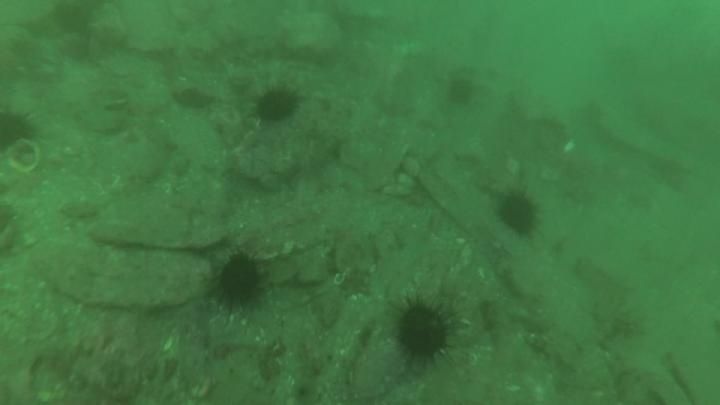echinus: (391, 296, 457, 366), (213, 251, 267, 310), (495, 190, 541, 238), (252, 85, 301, 125), (1, 107, 38, 154), (50, 2, 97, 37), (444, 75, 477, 108)
